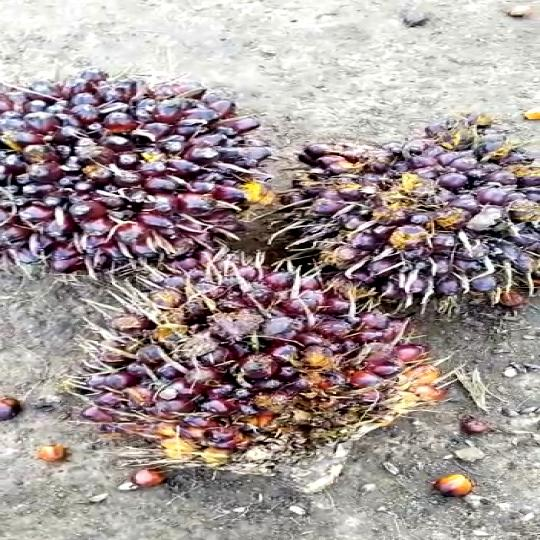kurang masak: (98, 254, 431, 520), (276, 116, 540, 326), (0, 68, 246, 274)
